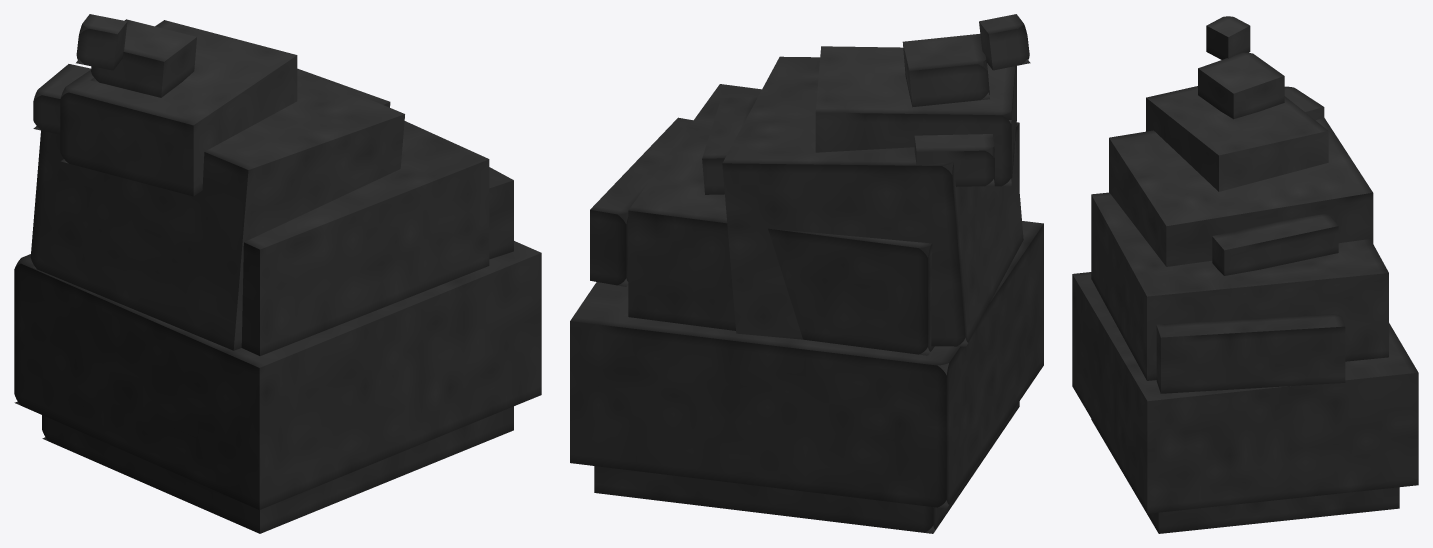
File: trash_bag1.obj
3 views of the same model, side by side, from view 1: azimuth 30°, elevation 25°; view 2: azimuth 150°, elevation 25°; view 3: azimuth 270°, elevation 25° (orthographic). The views are drawn at different scales.
Visible parts, largest first — view 1: baseModel1, baseModel2, baseModel0, baseModel3, baseModel5, baseModel4, baseModel6, baseModel7, baseModel9; view 2: baseModel1, baseModel2, baseModel0, baseModel3, baseModel5, baseModel7, baseModel4, baseModel9, baseModel8, baseModel6; view 3: baseModel1, baseModel0, baseModel2, baseModel7, baseModel3, baseModel5, baseModel8, baseModel4, baseModel6, baseModel9.
Boxes of the visible parts, box(x1,y1,x2,y2) form: baseModel1: box(14, 241, 541, 509); baseModel2: box(30, 69, 404, 350); baseModel0: box(241, 121, 489, 355); baseModel3: box(60, 20, 297, 196); baseModel5: box(42, 406, 513, 533); baseModel4: box(90, 19, 196, 97); baseModel6: box(76, 14, 127, 70); baseModel7: box(489, 167, 513, 259); baseModel9: box(33, 64, 91, 134); baseModel1: box(570, 221, 1043, 508); baseModel2: box(722, 56, 1023, 346); baseModel0: box(628, 84, 1019, 355); baseModel3: box(815, 46, 1016, 186); baseModel5: box(594, 363, 1019, 533); baseModel7: box(590, 117, 693, 286); baseModel4: box(902, 34, 989, 107); baseModel9: box(914, 134, 994, 186); baseModel8: box(702, 97, 757, 194); baseModel6: box(979, 14, 1030, 70); baseModel1: box(1072, 272, 1418, 513); baseModel0: box(1091, 192, 1388, 380); baseModel2: box(1109, 117, 1373, 266); baseModel7: box(1156, 314, 1345, 393); baseModel3: box(1146, 86, 1328, 191); baseModel5: box(1091, 419, 1399, 533); baseModel8: box(1212, 214, 1338, 275); baseModel4: box(1198, 52, 1284, 119); baseModel6: box(1206, 16, 1250, 59); baseModel9: box(1284, 86, 1324, 120).
Bounding box in the file's own units: 0.7695 × 0.8202 × 0.697.
1 material, 1 textured.
